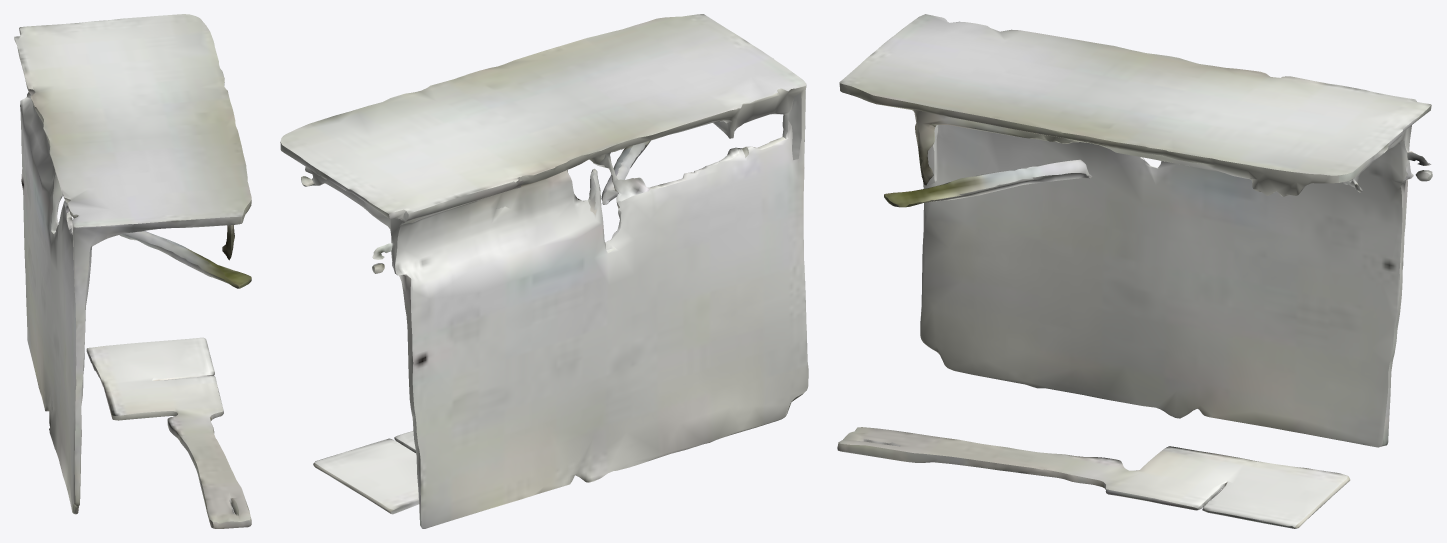
The picture shows the model from 3 angles, left to right: view 1: azimuth 30°, elevation 25°; view 2: azimuth 150°, elevation 25°; view 3: azimuth 270°, elevation 25°; orthographic projection. The views are drawn at different scales.
Visible parts, largest first — view 1: world; view 2: world; view 3: world.
Part boxes in pixels (<box>): world: <box>14,14,251,528</box>; world: <box>280,14,808,528</box>; world: <box>837,14,1432,528</box>.
Bounding box in the file's own units: 0.6823 × 0.6846 × 1.
1 material, 1 textured.
